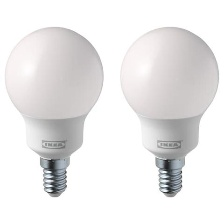light_bulb: (1, 23, 109, 201), (114, 20, 220, 200)
